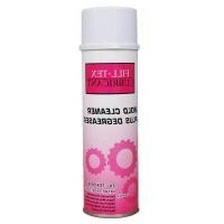aerosol_cans: (76, 3, 144, 221)
